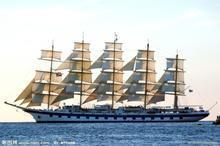fanchuan: (2, 28, 212, 125)
